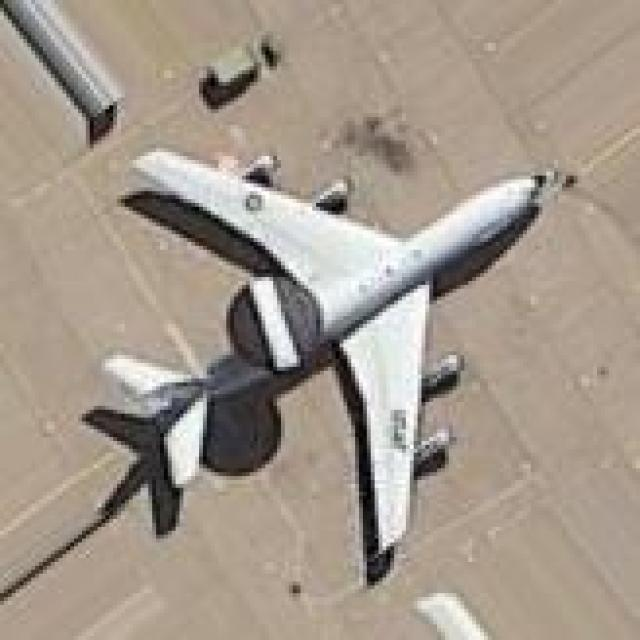E-3_TopDown: (74, 137, 574, 586)
